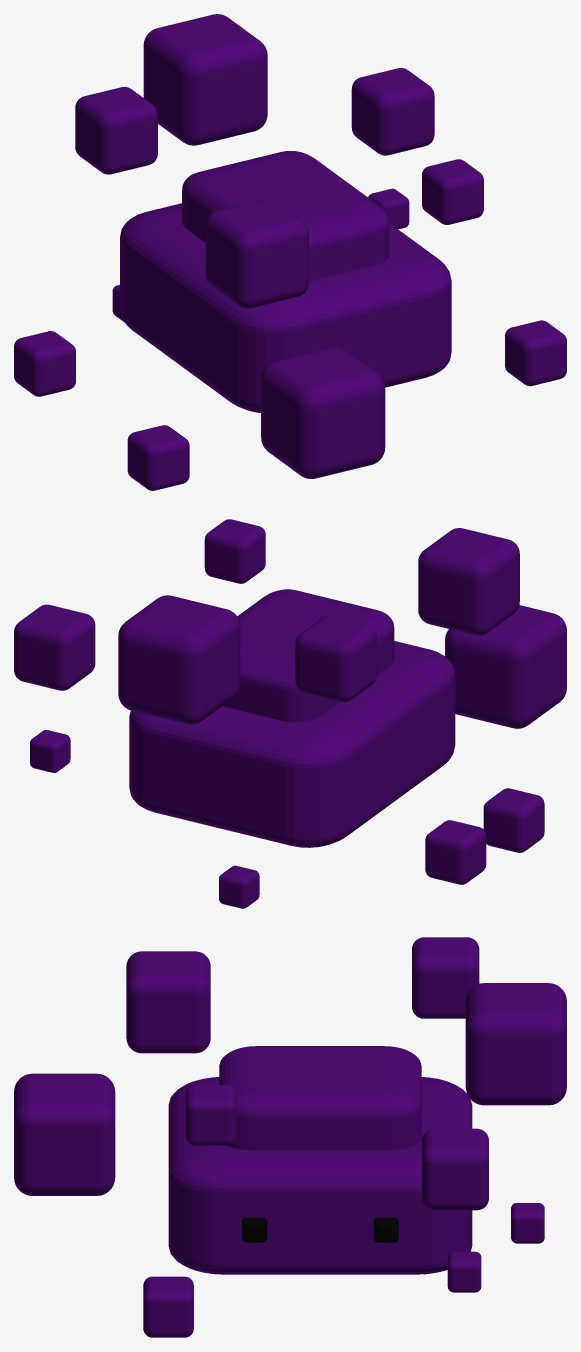
The model's file is Miasmum.glb.
3 views of the same model, one above another, from view 1: azimuth 30°, elevation 25°; view 2: azimuth 150°, elevation 25°; view 3: azimuth 270°, elevation 25° (orthographic). The views are drawn at different scales.
Parts seen in each view (by area): view 1: Miasma; view 2: Miasma; view 3: Miasma.
Part boxes in pixels (box(x1,y1,x2,y2)): Miasma: box(14, 14, 566, 490); Miasma: box(14, 519, 566, 908); Miasma: box(14, 937, 566, 1337).
Size of the model in its own units: 1.47 by 0.959 by 1.64.
